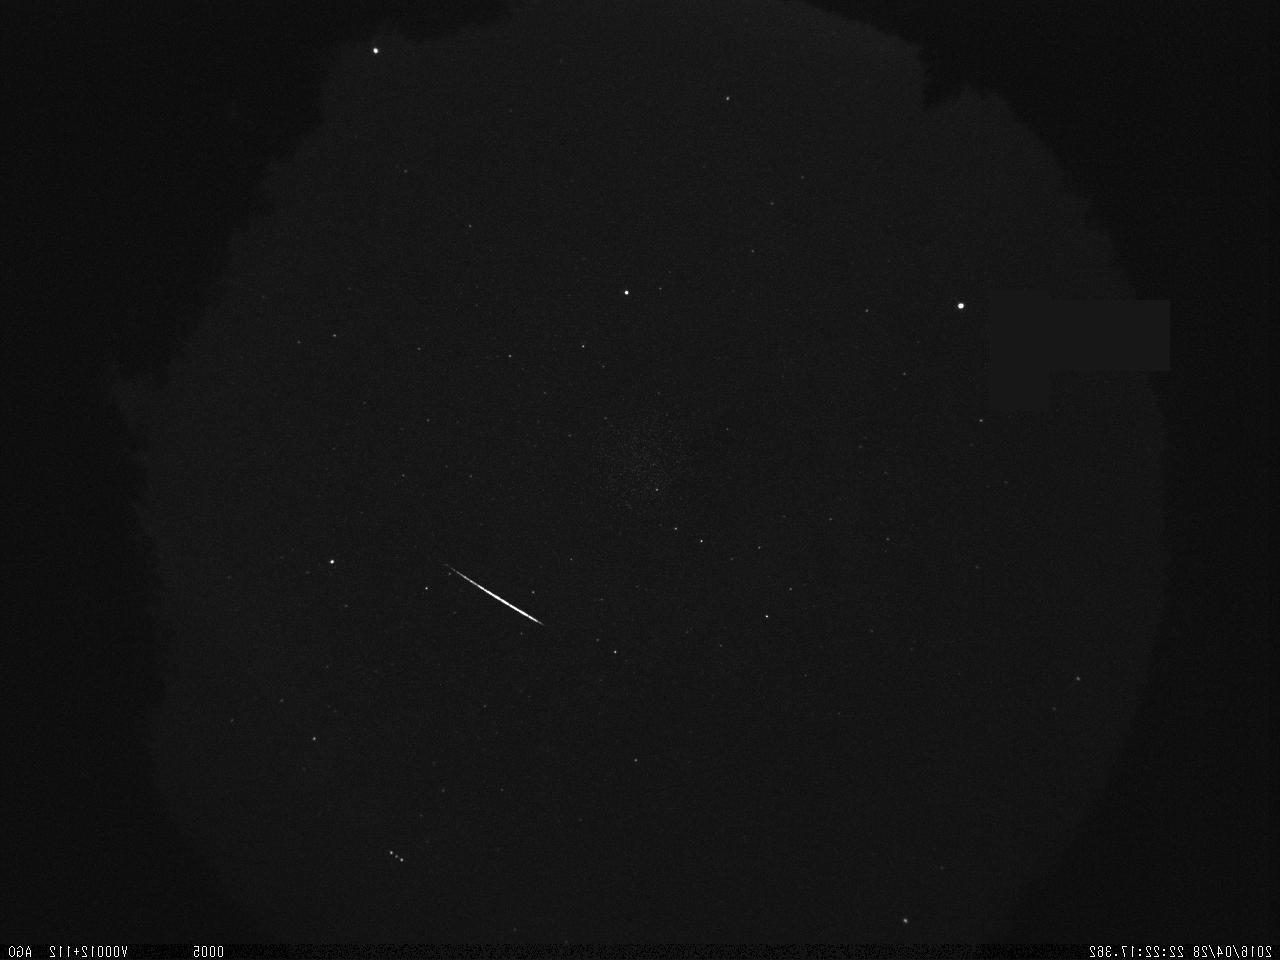meteor: (451, 551, 552, 664)
